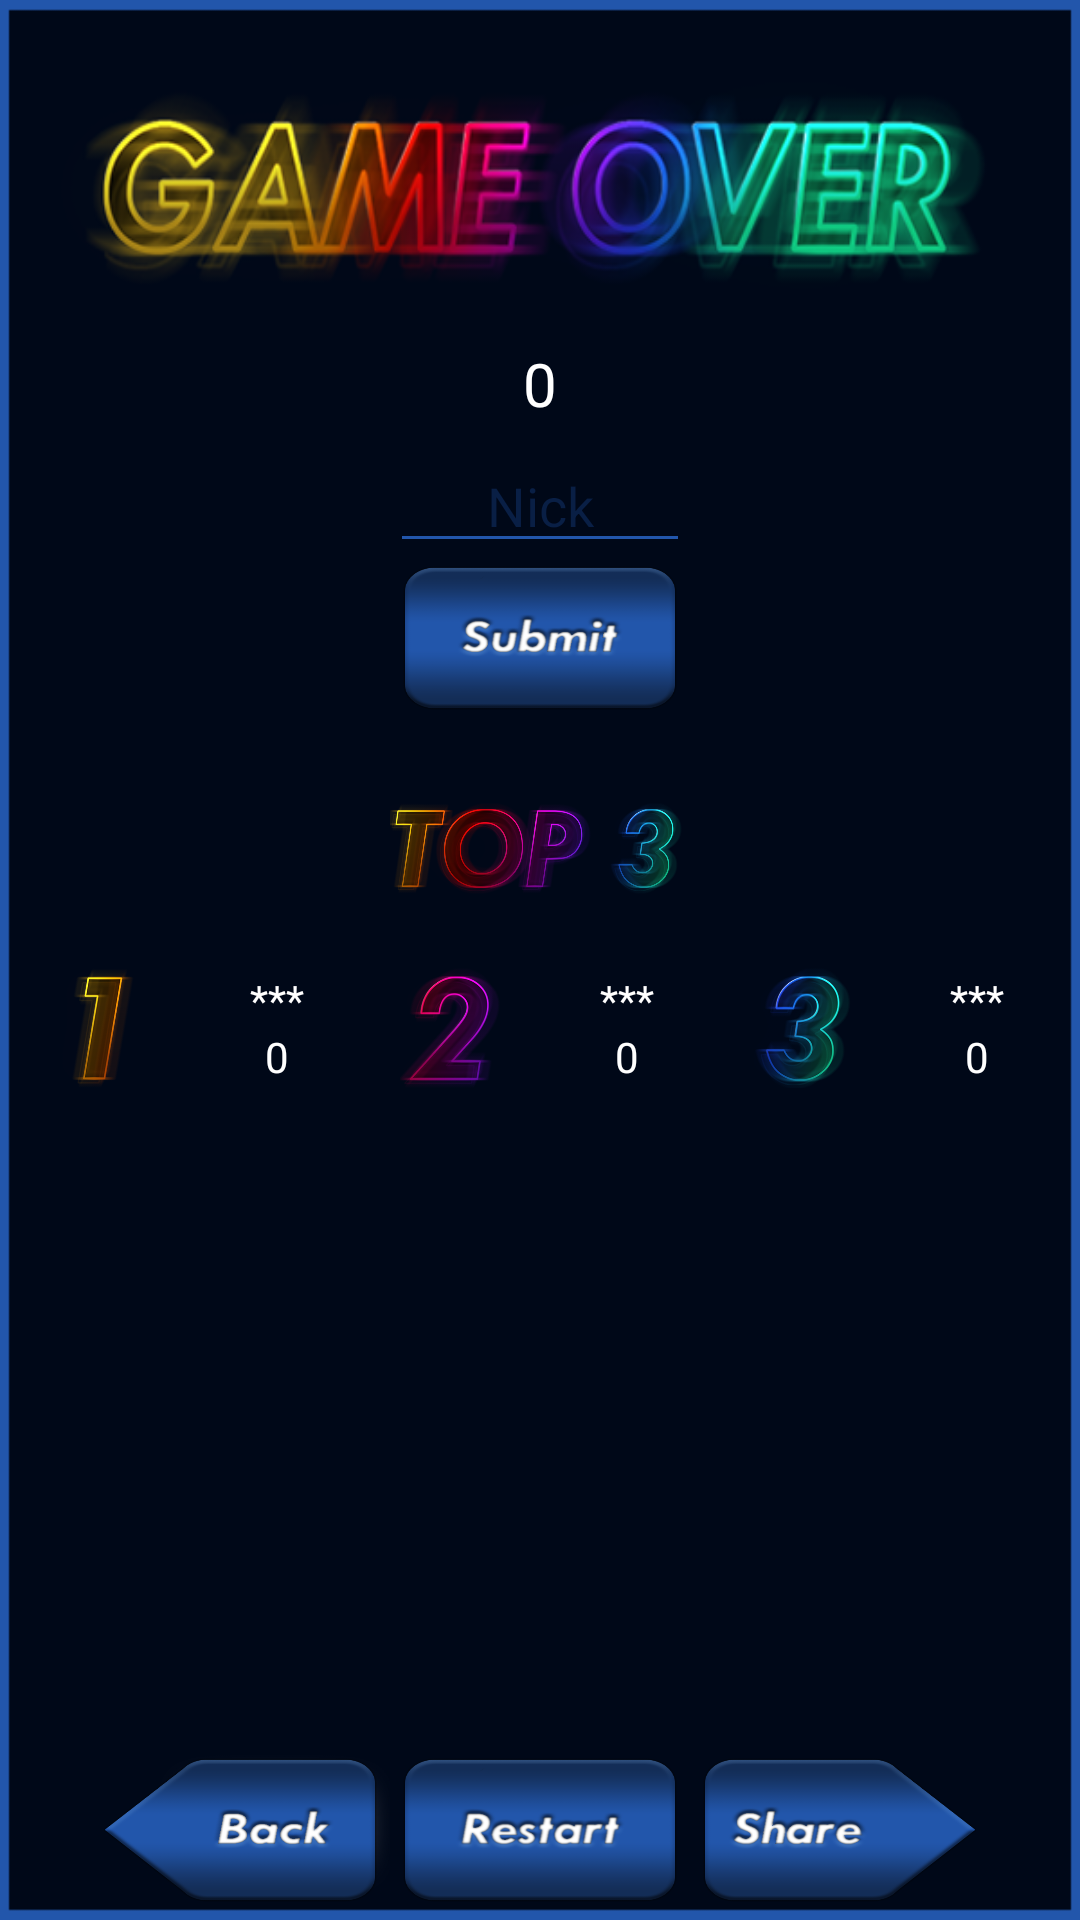

Named icons in this screenshot (1080px x 1920px) and their centers, (x=x, y=y):
firstplace: (x=102, y=1029)
secondplace: (x=447, y=1030)
thirdplace: (x=801, y=1030)
